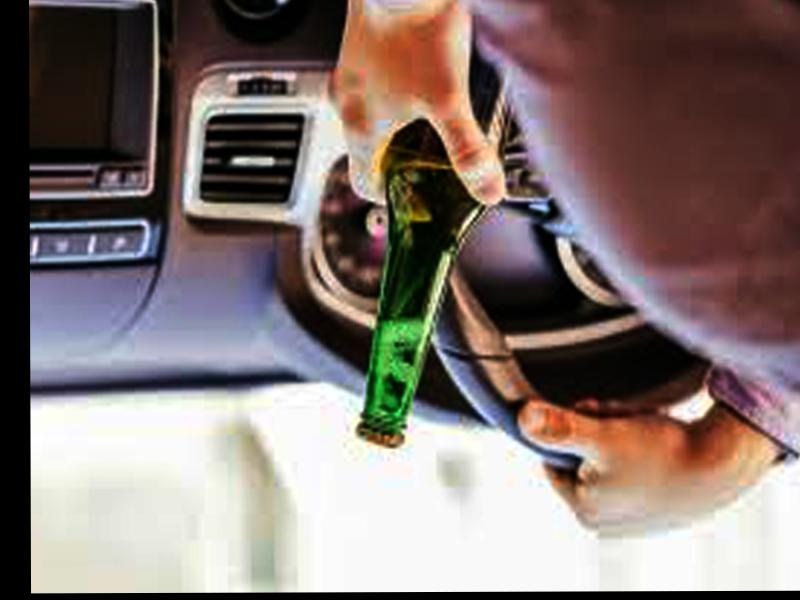Beer: (353, 10, 519, 450)
